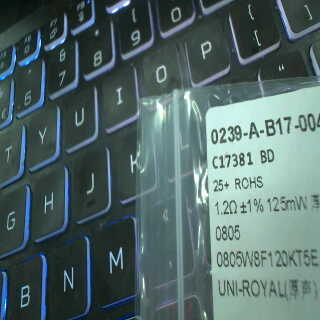1.2R: (213, 198, 241, 242)
